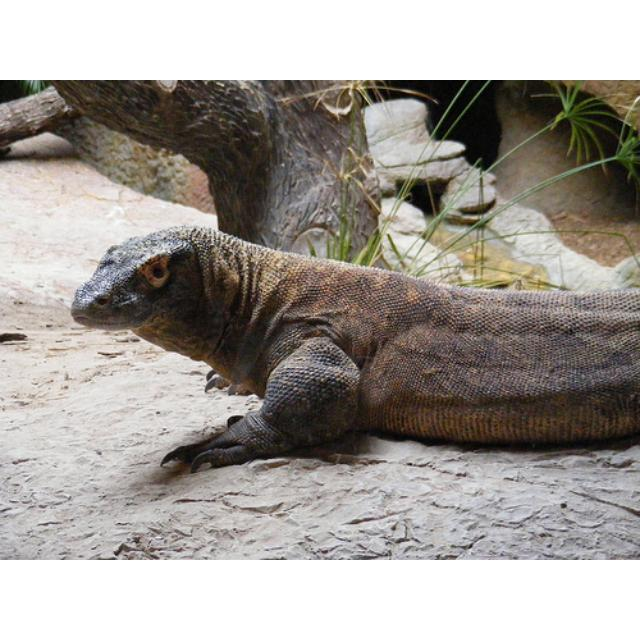KomodoDragon: (65, 223, 637, 476)
